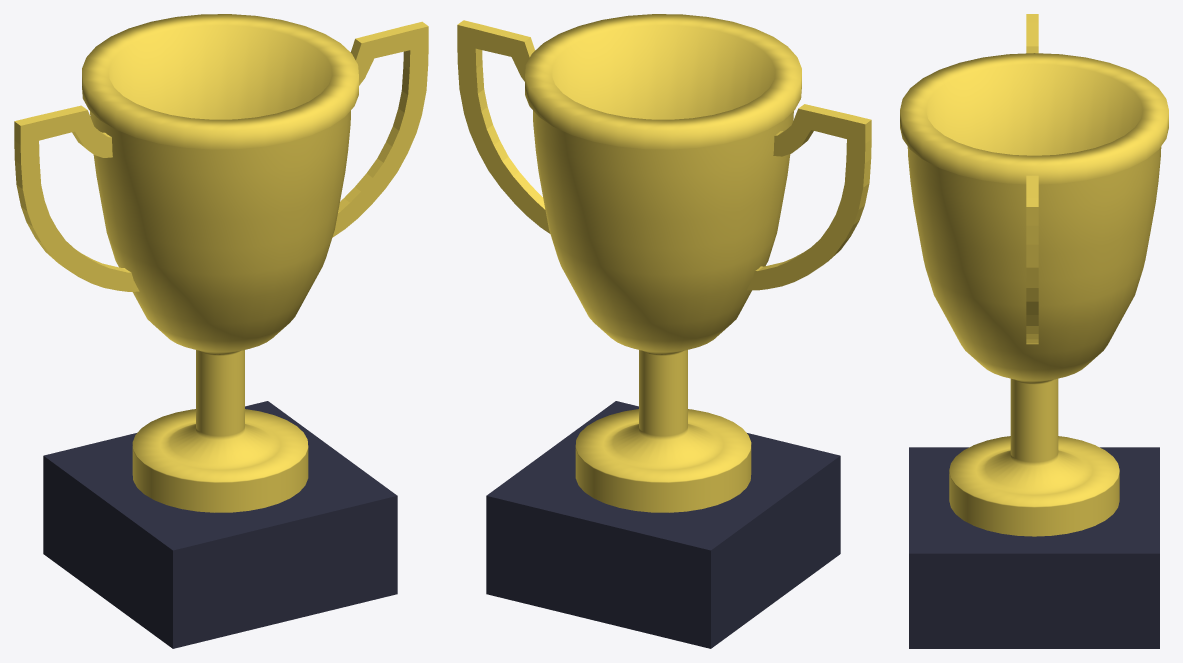
File: trophy.fbx
The picture shows the model from 3 angles, left to right: view 1: azimuth 30°, elevation 25°; view 2: azimuth 150°, elevation 25°; view 3: azimuth 270°, elevation 25°; orthographic projection. The views are drawn at different scales.
Visible parts, largest first — view 1: Plane.003, Cube.004; view 2: Plane.003, Cube.004; view 3: Plane.003, Cube.004.
Part boxes in pixels (x1=…): Plane.003: x1=14, y1=14, x2=428, y2=512; Cube.004: x1=43, y1=401, x2=397, y2=648; Plane.003: x1=457, y1=14, x2=871, y2=512; Cube.004: x1=486, y1=401, x2=840, y2=648; Plane.003: x1=900, y1=14, x2=1168, y2=536; Cube.004: x1=909, y1=447, x2=1159, y2=648.
Bounding box in the file's own units: 81.48 × 95.7 × 48.01.
